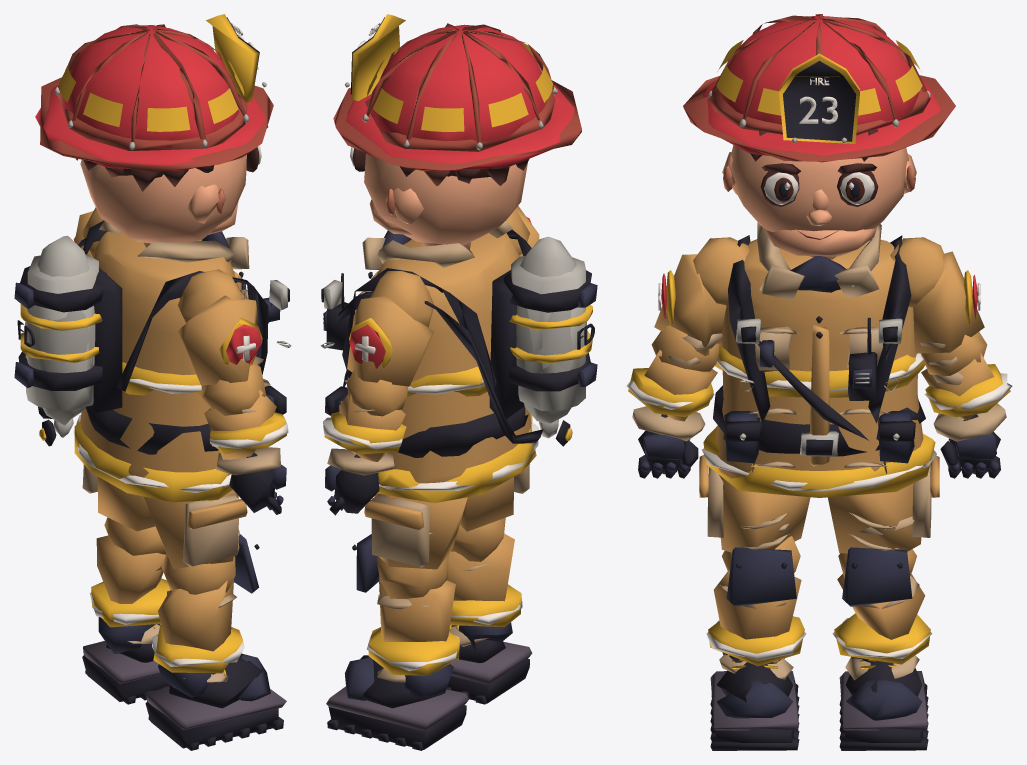
Rendered from npc.firefighter-alive.lod1.glb.
The picture shows the model from 3 angles, left to right: view 1: azimuth 30°, elevation 25°; view 2: azimuth 150°, elevation 25°; view 3: azimuth 270°, elevation 25°; orthographic projection. The views are drawn at different scales.
Parts seen in each view (by area): view 1: torso, head, shinR, footR, armR, shinL, foreArmR, legR, footL, legL, handR, armL; view 2: torso, head, shinL, footL, armL, shinR, foreArmL, legL, footR, legR, handL, armR; view 3: torso, head, shinR, shinL, footR, footL, foreArmR, armL, foreArmL, armR, legL, legR (+2 smaller).
Boxes of the visible parts, box(x1,y1,x2,y2) form: torso: box(14, 220, 291, 502); head: box(35, 14, 273, 247); shinR: box(152, 534, 259, 682); footR: box(145, 653, 286, 750); armR: box(177, 269, 263, 385); shinL: box(89, 517, 170, 643); foreArmR: box(201, 362, 288, 475); legR: box(144, 490, 247, 568); footL: box(82, 617, 169, 704); legL: box(82, 464, 155, 531); handR: box(229, 452, 286, 514); armL: box(73, 207, 103, 257); torso: box(320, 220, 597, 502); head: box(333, 14, 581, 249); shinL: box(352, 534, 459, 682); footL: box(326, 655, 468, 750); armL: box(347, 271, 434, 386); shinR: box(446, 517, 522, 646); foreArmL: box(323, 368, 408, 475); legL: box(364, 493, 467, 569); footR: box(446, 622, 532, 704); legR: box(460, 463, 529, 531); handL: box(325, 454, 379, 515); armR: box(507, 206, 539, 256); torso: box(702, 222, 936, 497); head: box(683, 14, 955, 259); shinR: box(706, 536, 806, 679); shinL: box(832, 547, 932, 680); footR: box(710, 652, 799, 750); footL: box(839, 657, 928, 750); foreArmR: box(626, 325, 719, 441); armL: box(890, 237, 984, 353); foreArmL: box(921, 332, 1012, 441); armR: box(654, 237, 749, 355); legL: box(827, 455, 939, 553); legR: box(699, 455, 810, 552).
Bounding box in the file's own units: 0.6766 × 1.8 × 0.9105.
